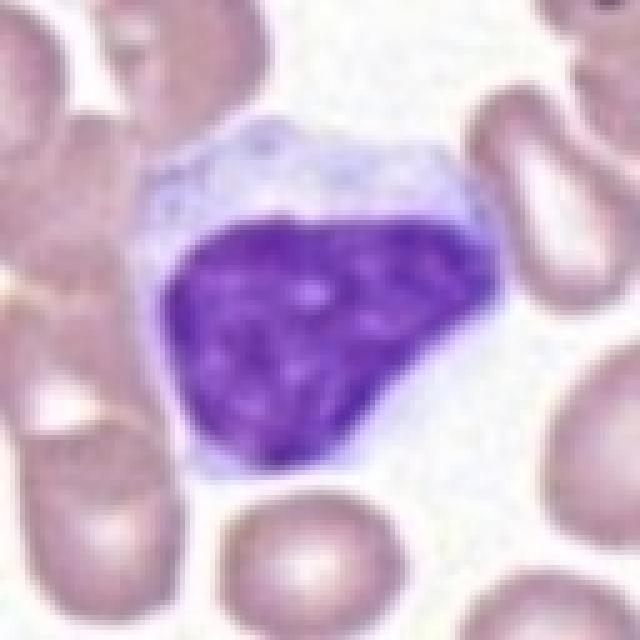lympho: (126, 104, 511, 482)
